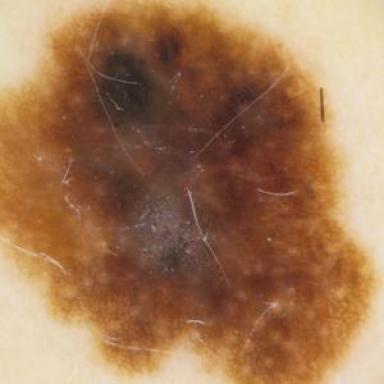Melanoma: (0, 2, 373, 384)
